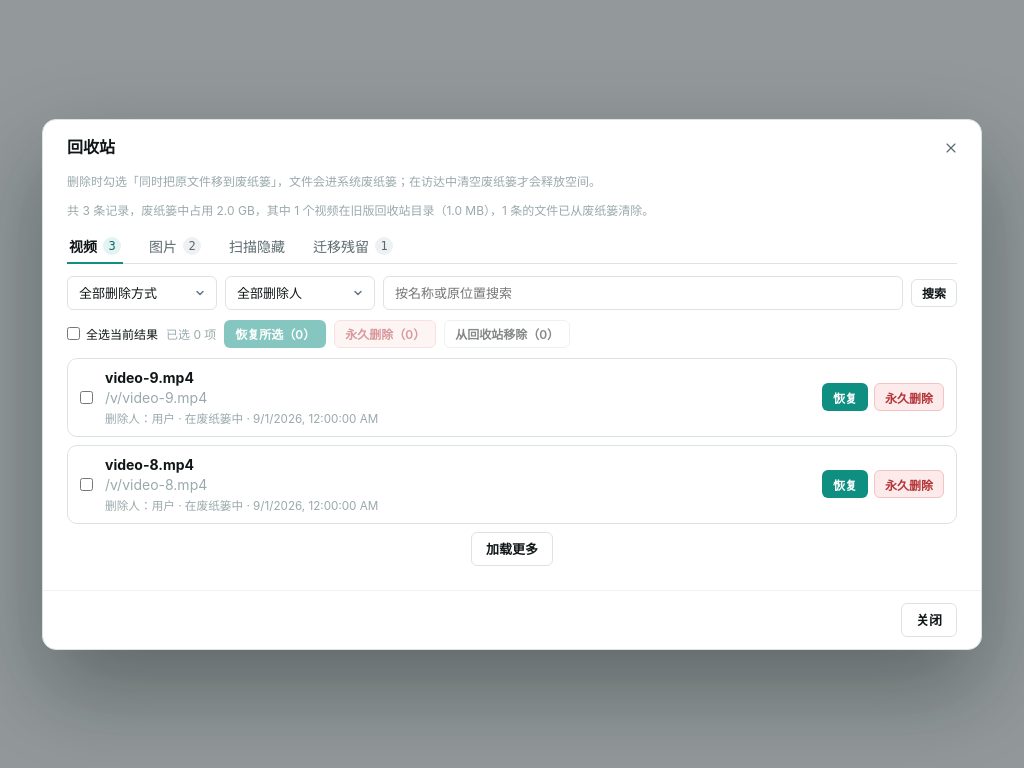
Test case: LIB-05 回收站中心：列表、分页与用量 › D-UD-10「全选当前结果」先按当前筛选取完剩余的页再全选，再点一次清空
The width and height of the screenshot is (1024, 768).
Click the checkbox with test id "trash-select-all" at (74, 334), box [67,327,80,340]
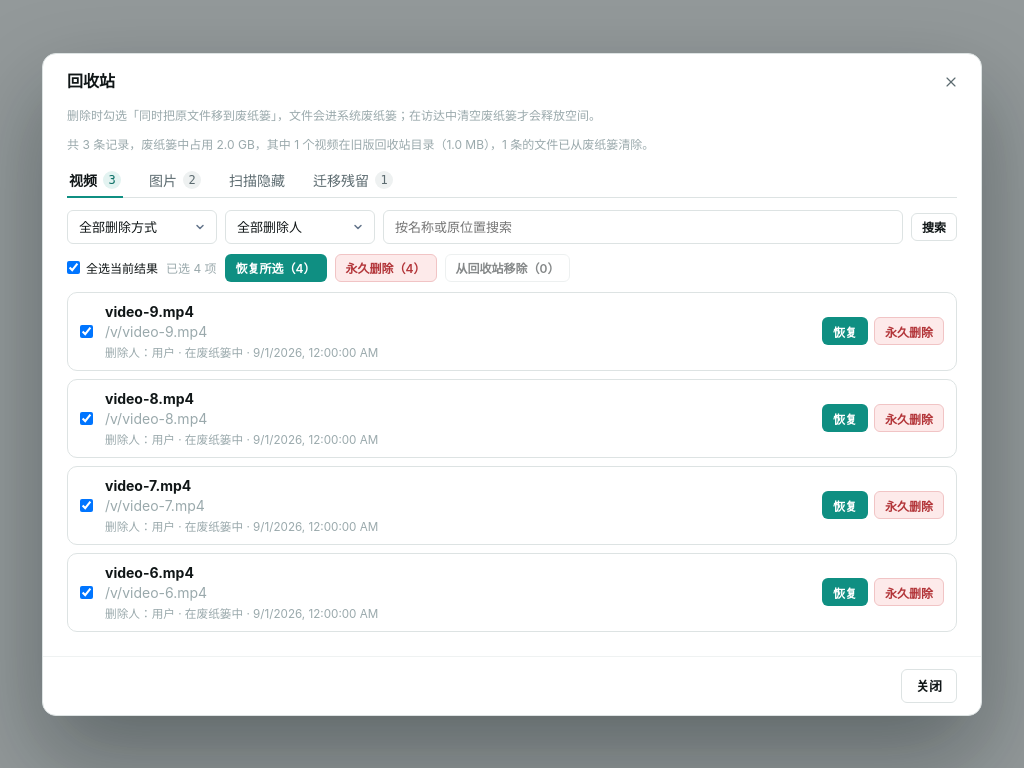
Check: the checkbox with test id "trash-select-all" is checked
Check: the button with test id "trash-bulk-restore" reads "恢复所选（4）", box [224,254,326,282]
Click the checkbox with test id "trash-select-all" at (74, 268), box [67,261,80,274]
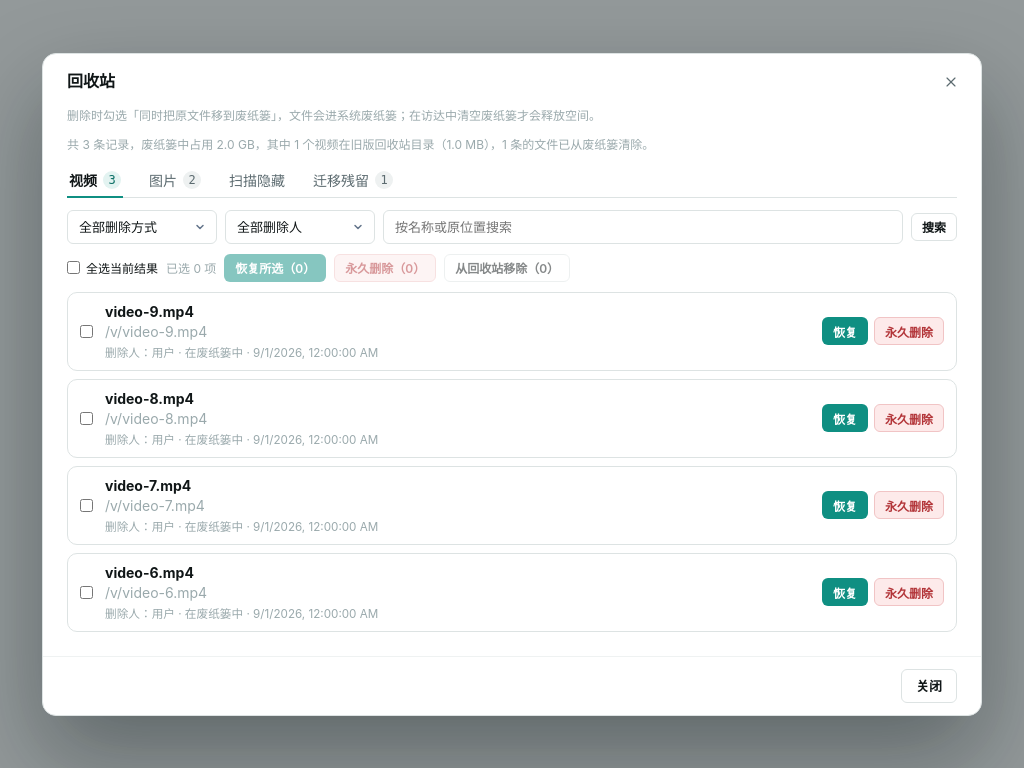
Check: the button with test id "trash-bulk-restore" reads "恢复所选（0）", box [224,254,326,282]
